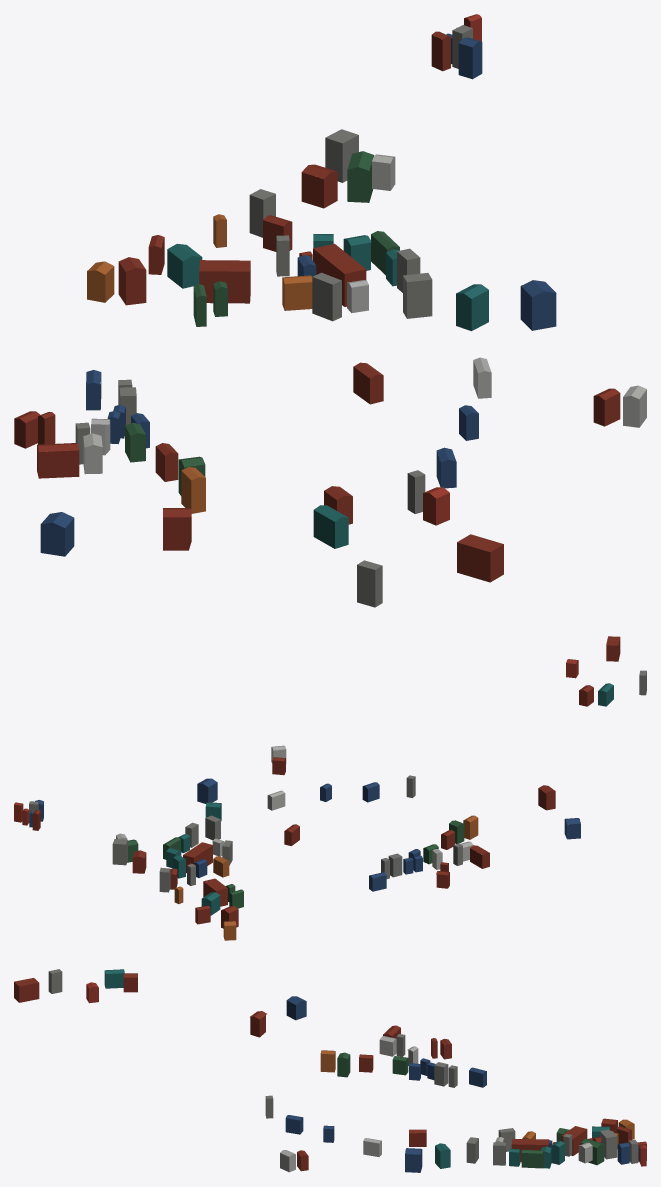
The model's file is near-15-27357-14859.1a3f3fec.glb.
3 views of the same model, one above another, from view 1: azimuth 30°, elevation 25°; view 2: azimuth 150°, elevation 25°; view 3: azimuth 270°, elevation 25° (orthographic). The views are drawn at different scales.
Bounding box in the file's own units: 498 × 130 × 665.
